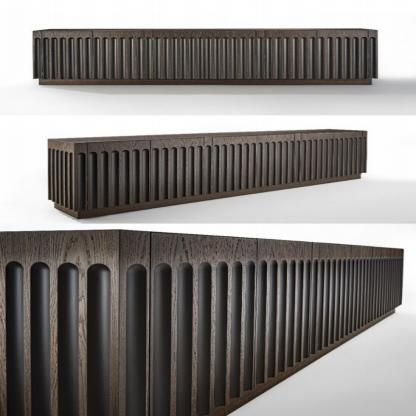Sideboard: (32, 28, 380, 88)
